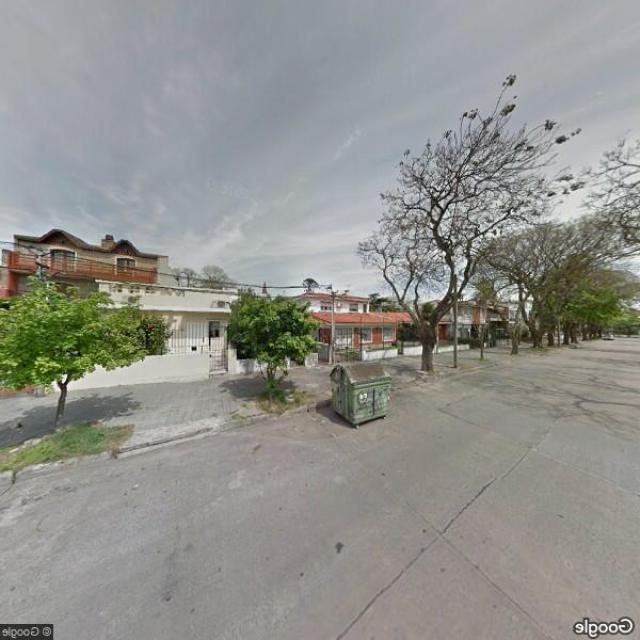garbage container: (319, 356, 396, 433)
